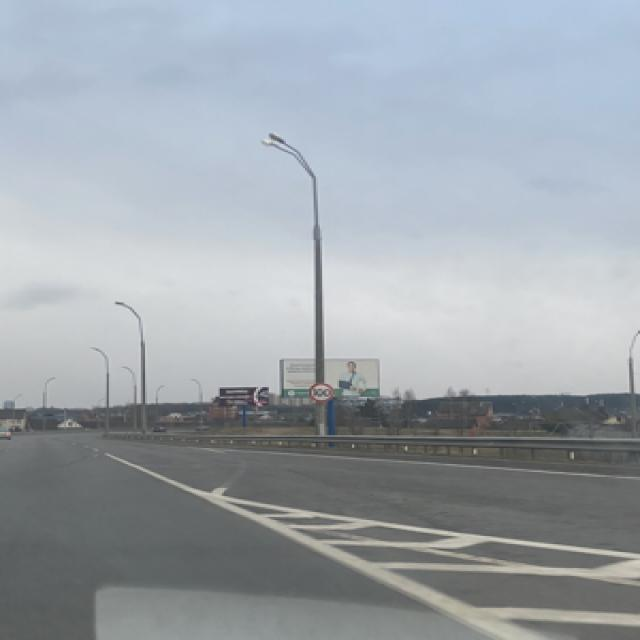speedlimit: (307, 381, 331, 400)
